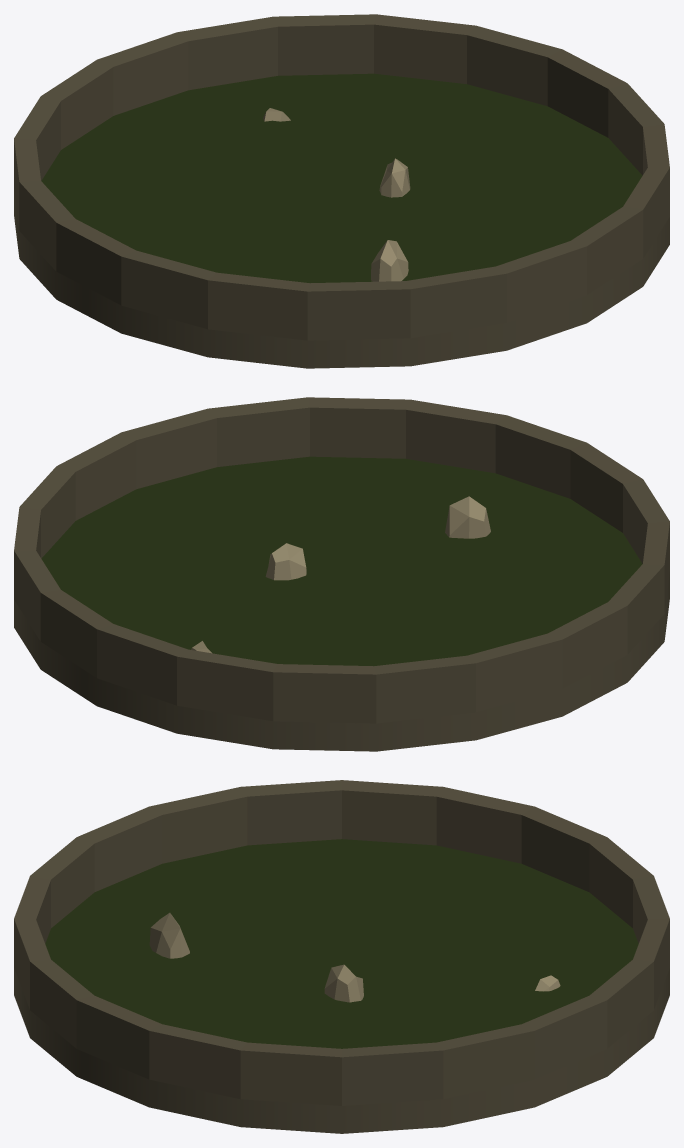
The model's file is esencario4test4.fbx.
3 renders of one model, top to bottom at view 1: azimuth 30°, elevation 25°; view 2: azimuth 150°, elevation 25°; view 3: azimuth 270°, elevation 25°, orthographic.
Parts seen in each view (by area): view 1: pCylinder5; view 2: pCylinder5; view 3: pCylinder5.
Part boxes in pixels (box(x1,y1,x2,y2)): pCylinder5: box(14, 14, 669, 368); pCylinder5: box(14, 397, 669, 751); pCylinder5: box(14, 780, 669, 1133).
Size of the model in its own units: 1413 by 205 by 1413.
